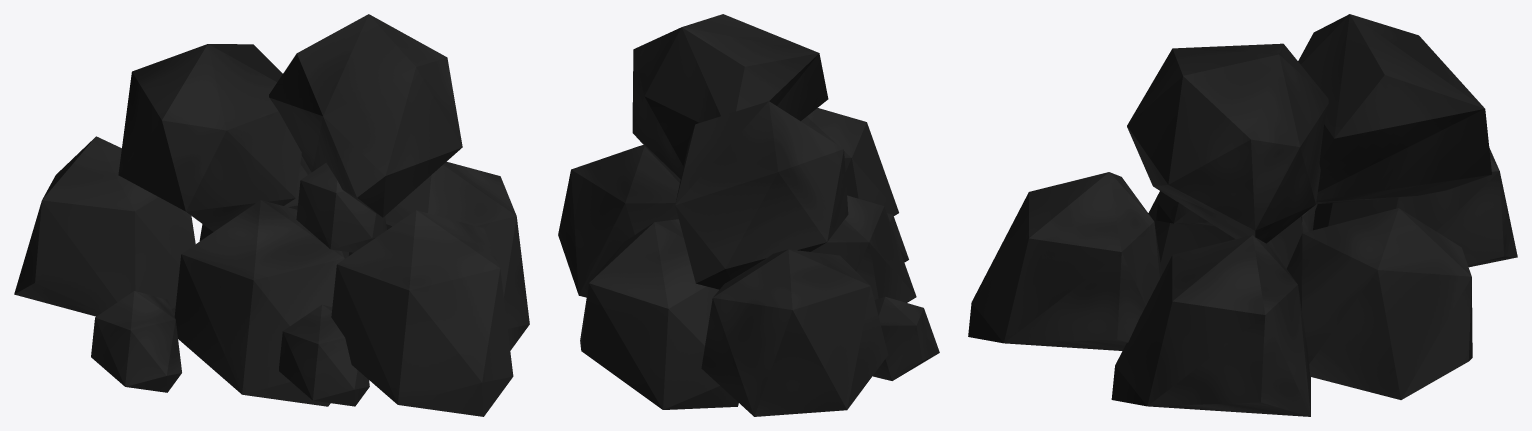
Rendered from Coal.fbx.
The picture shows the model from 3 angles, left to right: view 1: azimuth 30°, elevation 25°; view 2: azimuth 150°, elevation 25°; view 3: azimuth 270°, elevation 25°; orthographic projection. The views are drawn at different scales.
Parts seen in each view (by area): view 1: cristal.009; view 2: cristal.009; view 3: cristal.009.
Part boxes in pixels (x1,y1,x2,y2): cristal.009: [14, 14, 529, 416]; cristal.009: [558, 14, 939, 416]; cristal.009: [968, 14, 1517, 416].
Bounding box in the file's own units: 27.84 × 21.36 × 30.22.
